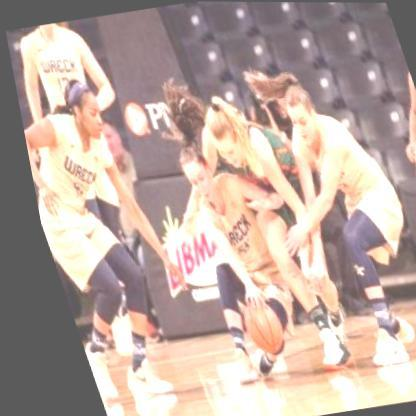basketball: (223, 293, 280, 356)
